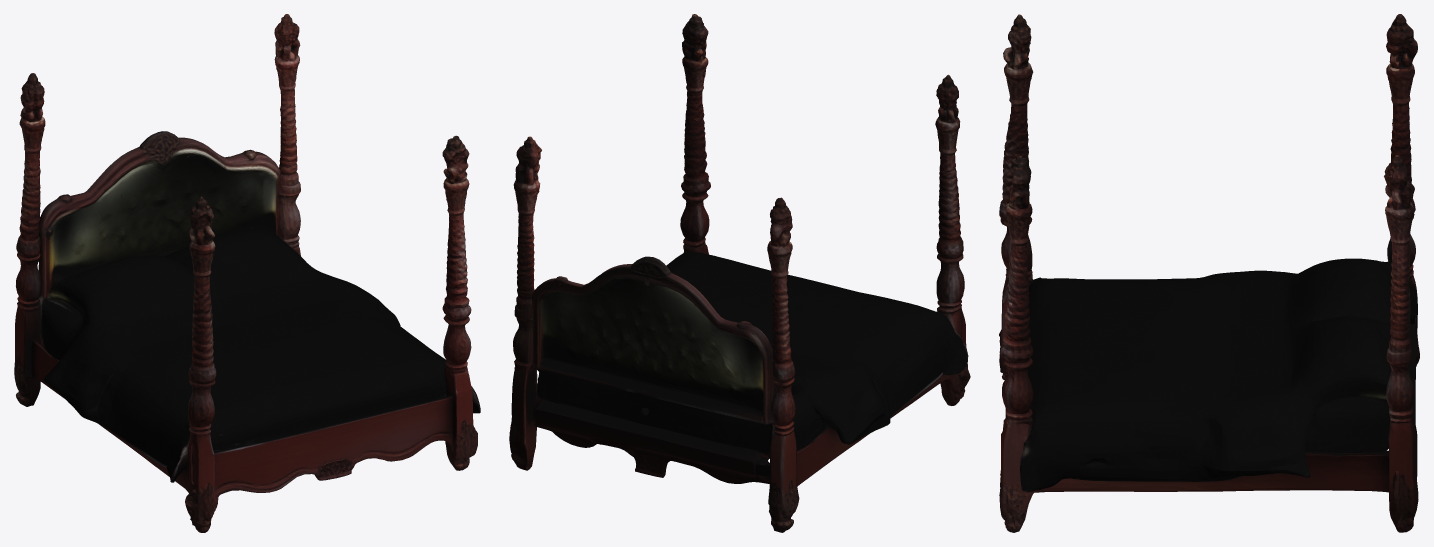
3 views of the same model, side by side, from view 1: azimuth 30°, elevation 25°; view 2: azimuth 150°, elevation 25°; view 3: azimuth 270°, elevation 25° (orthographic). The views are drawn at different scales.
Parts seen in each view (by area): view 1: world; view 2: world; view 3: world.
Part boxes in pixels (bbox=[...]): world: bbox=[14, 14, 480, 532]; world: bbox=[509, 14, 970, 532]; world: bbox=[999, 14, 1419, 532].
Size of the model in its own units: 0.9909 by 0.9824 by 0.9962.
Materials: 1 (1 with a texture image).
